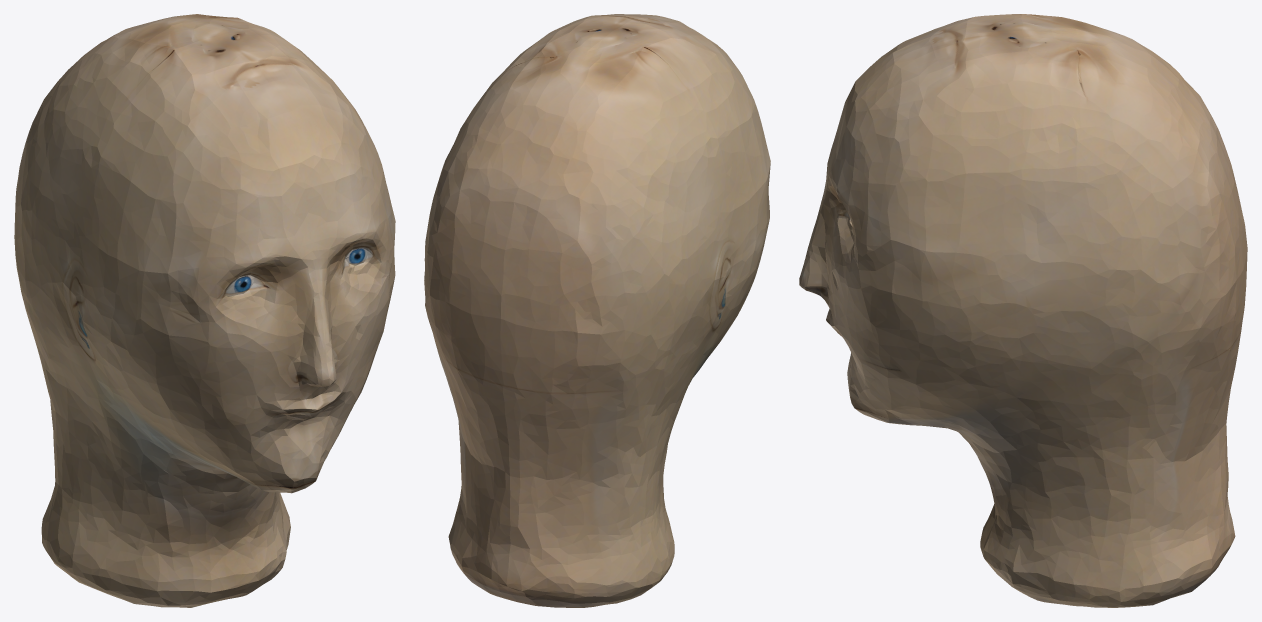
The model's file is Smooth_Meme_Face_0425141029_texture.fbx.
3 renders of one model, left to right at view 1: azimuth 30°, elevation 25°; view 2: azimuth 150°, elevation 25°; view 3: azimuth 270°, elevation 25°, orthographic. The views are drawn at different scales.
Parts seen in each view (by area): view 1: temp; view 2: temp; view 3: temp.
Part boxes in pixels (x1,y1,x2,y2): temp: [14, 14, 395, 607]; temp: [424, 14, 770, 607]; temp: [799, 14, 1247, 607].
Bounding box in the file's own units: 99.79 × 200 × 148.
1 material, 1 textured.
